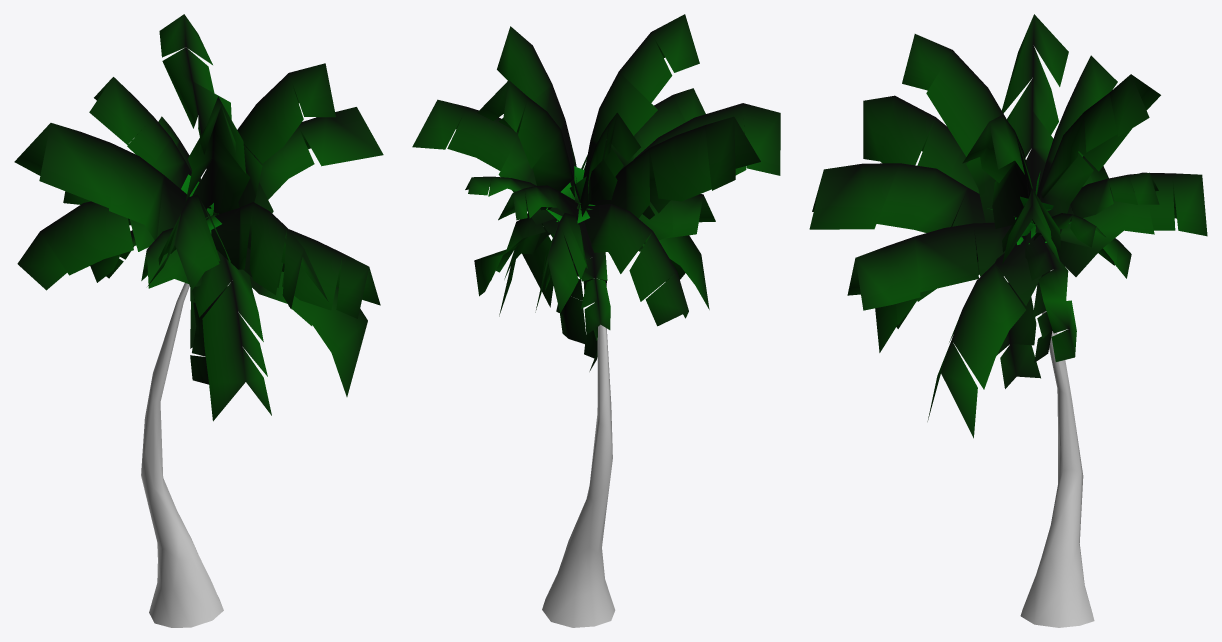
The model's file is CoconutPalmTree02_HDRP_afsTREE_xlprl05_xef99_xlod02.fbx.
3 renders of one model, left to right at view 1: azimuth 30°, elevation 25°; view 2: azimuth 150°, elevation 25°; view 3: azimuth 270°, elevation 25°, orthographic. The views are drawn at different scales.
Visible parts, largest first — view 1: branch19_xw08_xt08_xp02_xlp04.002, trunk_xw08_xt00_xlp00.002, branch01_xw06_xt07_xp07_xlp04.002, branch17_xw08_xt09_xlp04.002, branch10_xw10_xt08_xp10_xlp05.002, branch02_xw08_xt08_xlp05_xp01.002, branch11_xw08_xt08_xlp04.002, branch17_xw12_xt10_xlp06_xp06.002, branch21_xw08_xt08_xp06_xlp05.002, branch02_xw08_xt08_xlp04.002, branch12_xw11_xt09_xp03_xlp06.002, branch03_xw06_xt07_xlp04.002 (+4 smaller); view 2: trunk_xw08_xt00_xlp00.002, branch19_xw08_xt08_xp02_xlp04.002, branch17_xw12_xt10_xlp06_xp06.002, branch17_xw08_xt09_xlp04.002, branch11_xw08_xt08_xlp04.002, branch12_xw11_xt09_xp03_xlp06.002, branch20_xw09_xt08_xp09_xlp04.002, branch10_xw10_xt08_xp10_xlp05.002, branch21_xw08_xt08_xp06_xlp05.002, branch14_xw08_xt09_xp10_xlp06.002, branch07_xw04_xt08_xlp06_xp05.002, branch09_xw08_xt08_xp01_xlp04.002 (+7 smaller); view 3: branch02_xw08_xt08_xlp05_xp01.002, trunk_xw08_xt00_xlp00.002, branch02_xw08_xt08_xlp04.002, branch03_xw06_xt07_xlp04.002, branch17_xw12_xt10_xlp06_xp06.002, branch12_xw11_xt09_xp03_xlp06.002, branch14_xw08_xt09_xp10_xlp06.002, branch20_xw09_xt08_xp09_xlp04.002, branch19_xw08_xt08_xp02_xlp04.002, branch10_xw10_xt08_xp10_xlp05.002, branch04_xw05_xt07_xlp05_xp02.002, branch15_xw08_xt09_xlp06_xp09.002 (+7 smaller).
Part boxes in pixels (bbox=[...]): branch19_xw08_xt08_xp02_xlp04.002: bbox=[14, 123, 190, 240]; trunk_xw08_xt00_xlp00.002: bbox=[141, 283, 223, 627]; branch01_xw06_xt07_xp07_xlp04.002: bbox=[192, 250, 271, 421]; branch17_xw08_xt09_xlp04.002: bbox=[17, 201, 154, 290]; branch10_xw10_xt08_xp10_xlp05.002: bbox=[237, 63, 335, 207]; branch02_xw08_xt08_xlp05_xp01.002: bbox=[211, 202, 328, 309]; branch11_xw08_xt08_xlp04.002: bbox=[254, 107, 383, 213]; branch17_xw12_xt10_xlp06_xp06.002: bbox=[185, 96, 250, 214]; branch21_xw08_xt08_xp06_xlp05.002: bbox=[89, 77, 191, 188]; branch02_xw08_xt08_xlp04.002: bbox=[243, 229, 380, 318]; branch12_xw11_xt09_xp03_xlp06.002: bbox=[159, 14, 231, 168]; branch03_xw06_xt07_xlp04.002: bbox=[249, 271, 367, 396]; trunk_xw08_xt00_xlp00.002: bbox=[542, 278, 615, 627]; branch19_xw08_xt08_xp02_xlp04.002: bbox=[588, 116, 760, 219]; branch17_xw12_xt10_xlp06_xp06.002: bbox=[583, 14, 699, 178]; branch17_xw08_xt09_xlp04.002: bbox=[584, 204, 688, 326]; branch11_xw08_xt08_xlp04.002: bbox=[412, 99, 555, 224]; branch12_xw11_xt09_xp03_xlp06.002: bbox=[477, 80, 579, 210]; branch20_xw09_xt08_xp09_xlp04.002: bbox=[633, 103, 780, 175]; branch10_xw10_xt08_xp10_xlp05.002: bbox=[497, 26, 580, 202]; branch21_xw08_xt08_xp06_xlp05.002: bbox=[580, 112, 640, 216]; branch14_xw08_xt09_xp10_xlp06.002: bbox=[535, 213, 589, 312]; branch07_xw04_xt08_xlp06_xp05.002: bbox=[572, 221, 610, 334]; branch09_xw08_xt08_xp01_xlp04.002: bbox=[608, 194, 715, 253]; branch02_xw08_xt08_xlp05_xp01.002: bbox=[809, 163, 994, 252]; trunk_xw08_xt00_xlp00.002: bbox=[1020, 285, 1094, 627]; branch02_xw08_xt08_xlp04.002: bbox=[847, 223, 1011, 310]; branch03_xw06_xt07_xlp04.002: bbox=[927, 240, 1041, 438]; branch17_xw12_xt10_xlp06_xp06.002: bbox=[902, 34, 1007, 222]; branch12_xw11_xt09_xp03_xlp06.002: bbox=[1035, 74, 1160, 233]; branch14_xw08_xt09_xp10_xlp06.002: bbox=[1053, 172, 1207, 276]; branch20_xw09_xt08_xp09_xlp04.002: bbox=[863, 95, 979, 193]; branch19_xw08_xt08_xp02_xlp04.002: bbox=[1001, 14, 1068, 192]; branch10_xw10_xt08_xp10_xlp05.002: bbox=[962, 115, 1036, 228]; branch04_xw05_xt07_xlp05_xp02.002: bbox=[1025, 222, 1076, 361]; branch15_xw08_xt09_xlp06_xp09.002: bbox=[1040, 172, 1159, 241].
Size of what is drawn, in the model's own units: 12.05 by 19.55 by 12.43.
